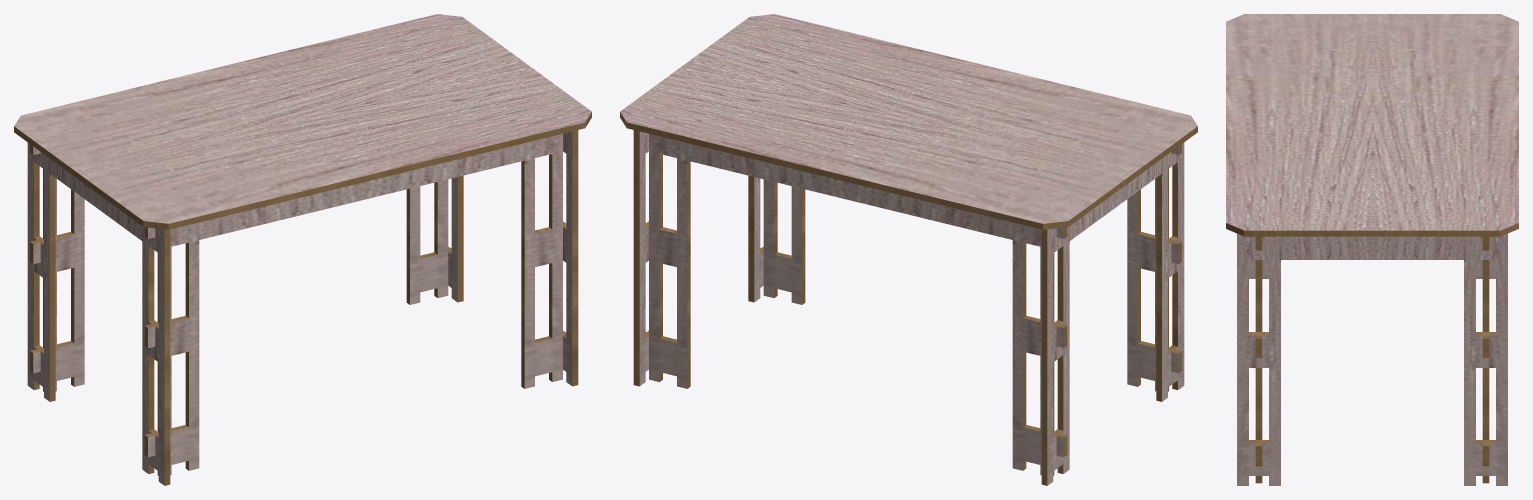
Rendered from NODO_MESA_COMEDOR_PORTICO_PARAISO_UV_LIMPIO_V2.glb.
3 views of the same model, side by side, from view 1: azimuth 30°, elevation 25°; view 2: azimuth 150°, elevation 25°; view 3: azimuth 270°, elevation 25° (orthographic).
Visible parts, largest first — view 1: top_faces_8, long_faces_4, short_faces_2, long_faces_6, short_edge_3, top_edge_9, long_edge_5, short_faces_0, short_edge_1, long_edge_7; view 2: top_faces_8, long_faces_6, short_faces_2, long_faces_4, short_edge_3, top_edge_9, long_edge_7, short_faces_0, short_edge_1, long_edge_5; view 3: top_faces_8, short_faces_0, top_edge_9, long_edge_5, long_edge_7, short_faces_2.
Part boxes in pixels (bbox=[...]): top_faces_8: bbox=[14, 14, 591, 223]; long_faces_4: bbox=[148, 134, 562, 475]; short_faces_2: bbox=[27, 142, 164, 485]; long_faces_6: bbox=[33, 146, 448, 391]; short_edge_3: bbox=[34, 162, 170, 485]; top_edge_9: bbox=[14, 112, 591, 229]; long_edge_5: bbox=[144, 154, 566, 475]; short_faces_0: bbox=[448, 131, 572, 385]; short_edge_1: bbox=[448, 130, 578, 386]; long_edge_7: bbox=[30, 144, 451, 391]; top_faces_8: bbox=[620, 14, 1197, 223]; long_faces_6: bbox=[649, 134, 1063, 475]; short_faces_2: bbox=[1047, 142, 1184, 485]; long_faces_4: bbox=[763, 146, 1178, 391]; short_edge_3: bbox=[1041, 162, 1177, 485]; top_edge_9: bbox=[620, 112, 1197, 229]; long_edge_7: bbox=[645, 154, 1067, 475]; short_faces_0: bbox=[639, 131, 763, 385]; short_edge_1: bbox=[633, 130, 763, 386]; long_edge_5: bbox=[760, 144, 1181, 391]; top_faces_8: bbox=[1226, 14, 1518, 230]; short_faces_0: bbox=[1237, 233, 1507, 485]; top_edge_9: bbox=[1226, 223, 1518, 236]; long_edge_5: bbox=[1255, 236, 1262, 483]; long_edge_7: bbox=[1482, 236, 1489, 483]; short_faces_2: bbox=[1249, 260, 1495, 278].
Size of the model in its own units: 1.4 by 0.795 by 0.8.
2 materials, 2 textured.
